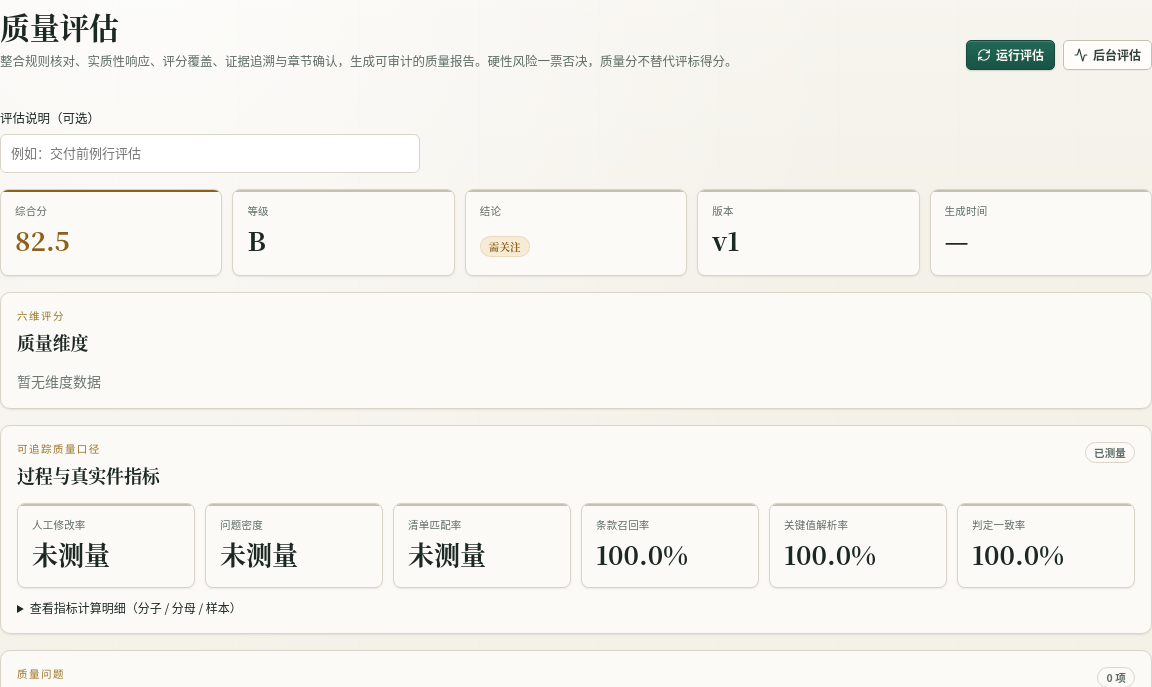
Scenario: QualityTab 证据与明细 › 判定明细以期望/实测/一致的可读形式展示
What coordinates should you click on to do the following:
click the heading "查看指标计算明细（分子 / 分母 / 样本）"
I would click on:
 (136, 607)
Its box is [30,599,242,616].
(page scrolled)
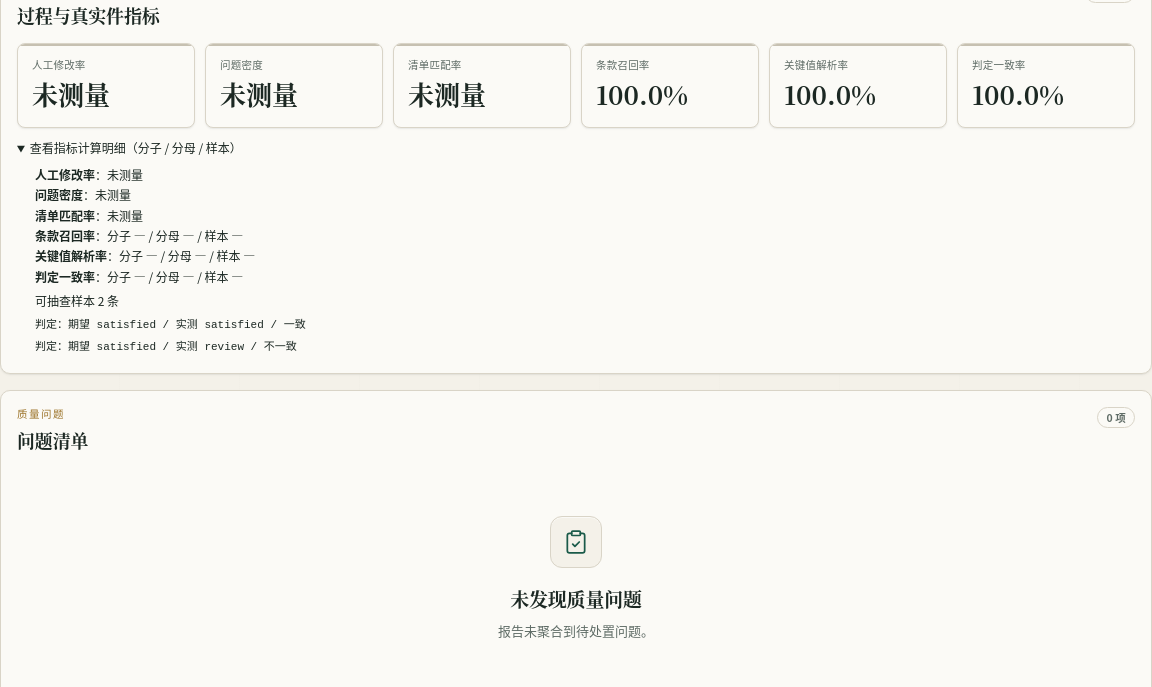
Check: the text "判定：期望 satisfied / 实测 satisfied / 一致" is shown, box [35,319,306,331]
Check: the text "判定：期望 satisfied / 实测 review / 不一致" is shown, box [35,341,297,353]
